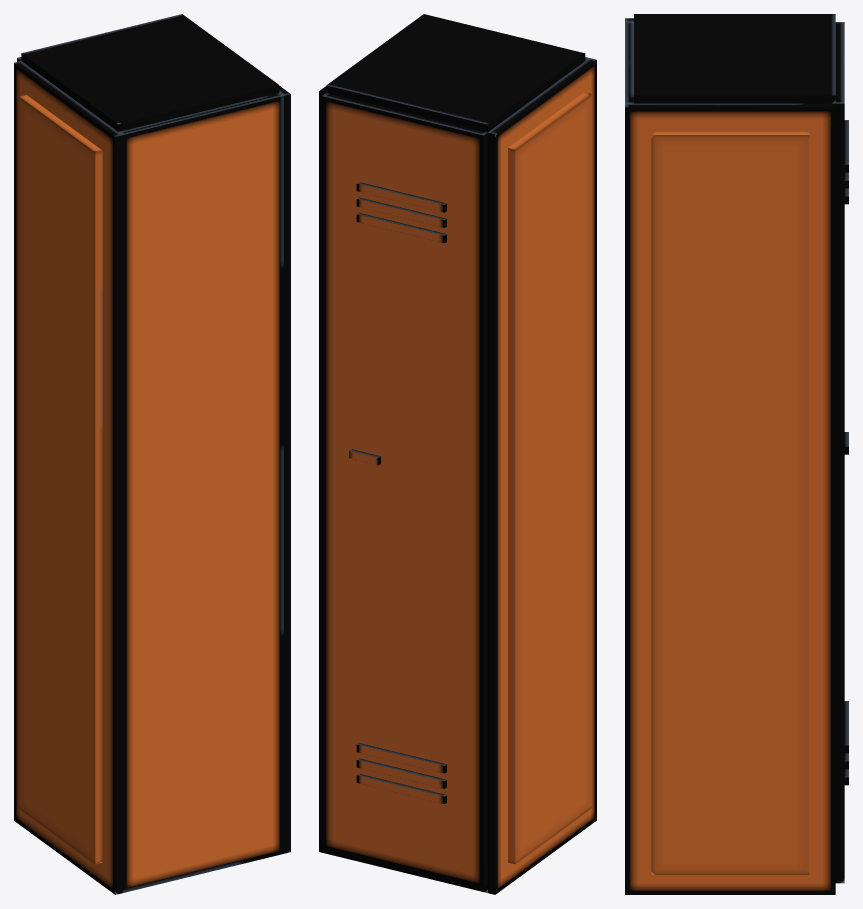
3 views of the same model, side by side, from view 1: azimuth 30°, elevation 25°; view 2: azimuth 150°, elevation 25°; view 3: azimuth 270°, elevation 25° (orthographic). The views are drawn at different scales.
Visible parts, largest first — view 1: cube_1, cube_14, cube, cube_4, cube_2; view 2: cube_5, cube_14, cube, cube_4, cube_2, cube_11, cube_6, cube_7, cube_10, cube_12, cube_8, cube_3; view 3: cube_13, cube_2, cube_4, cube_5, cube_1.
Part boxes in pixels (box(x1,y1,x2,y2)): cube_1: box(119, 93, 283, 892); cube_14: box(19, 95, 102, 864); cube: box(14, 61, 122, 894); cube_4: box(21, 14, 279, 131); cube_2: box(276, 86, 290, 853); cube_5: box(322, 93, 487, 888); cube_14: box(508, 92, 591, 864); cube: box(488, 58, 596, 894); cube_4: box(326, 14, 585, 132); cube_2: box(319, 86, 326, 853); cube_11: box(356, 758, 446, 788); cube_6: box(356, 182, 446, 212); cube_7: box(356, 197, 446, 227); cube_10: box(356, 743, 446, 773); cube_12: box(356, 773, 446, 804); cube_8: box(356, 213, 446, 243); cube_3: box(326, 850, 487, 892); cube_13: box(651, 131, 809, 874); cube_2: box(625, 103, 835, 894); cube_4: box(634, 14, 835, 103); cube_5: box(835, 22, 844, 883); cube_1: box(625, 22, 633, 103).
Bounding box in the file's own units: 162 × 625 × 159.
Materials: 2 (2 with a texture image).
